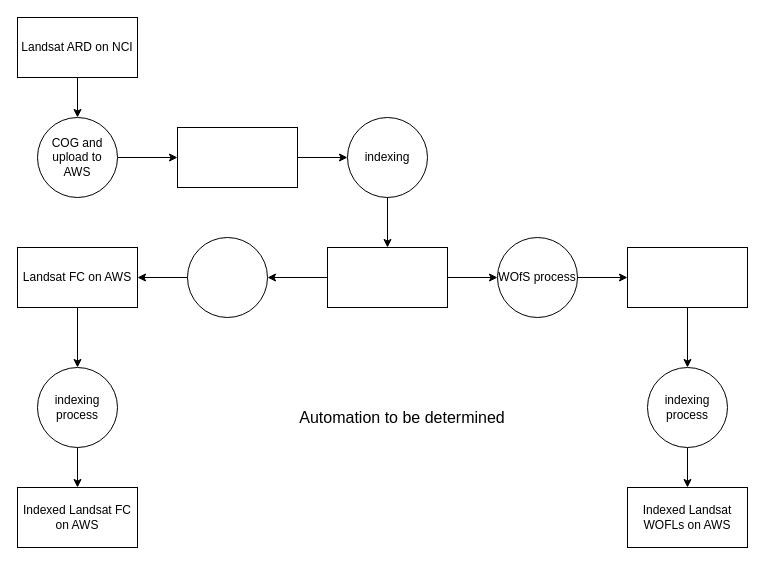
Some shapes in this 765 by 565 pixel diagram are drawn without their labels. Here are the shapes that lost their labels. From the top down, the centre of each, then its label:
At (x=237, y=157): "Landsat ARD on AWS".
At (x=227, y=277): "Fractional Cover process".
At (x=387, y=277): "Landsat ARD in ODC".
At (x=687, y=277): "Landsat WOFLs on AWS".
